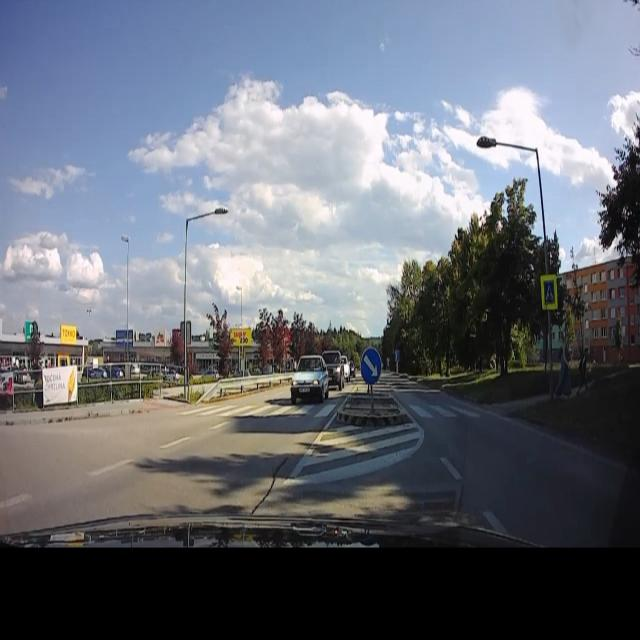Pedestrian crosswalk: (184, 396, 340, 424), (408, 395, 490, 424), (558, 331, 574, 402), (576, 338, 594, 396), (540, 274, 558, 310)
